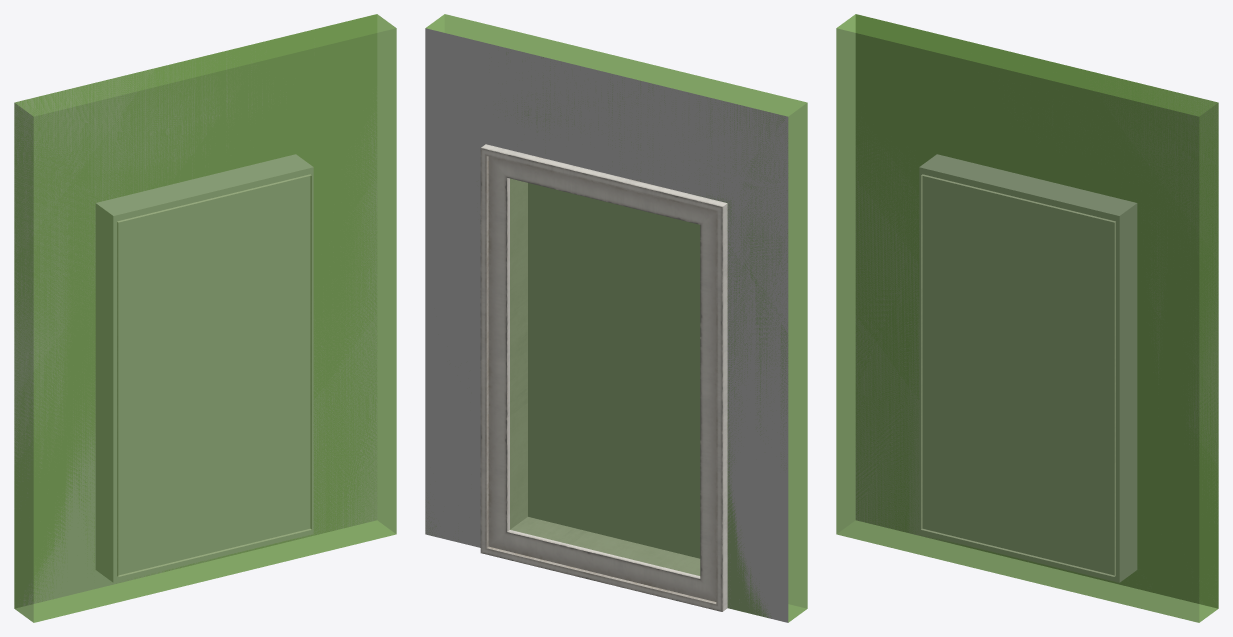
The model's file is F2_md_Wall_4x3_WL_01.fbx.
The picture shows the model from 3 angles, left to right: view 1: azimuth 30°, elevation 25°; view 2: azimuth 150°, elevation 25°; view 3: azimuth 330°, elevation 25°; orthographic projection.
Visible parts, largest first — view 1: F2_md_Wall_4x3_WL_01_col_01, F2_md_Wall_4x3_WL_01_LOD0; view 2: F2_md_Wall_4x3_WL_01_LOD0, F2_md_Wall_4x3_WL_01_col_01; view 3: F2_md_Wall_4x3_WL_01_col_01, F2_md_Wall_4x3_WL_01_LOD0.
Part boxes in pixels (bbox=[...]): F2_md_Wall_4x3_WL_01_col_01: bbox=[14, 14, 396, 622]; F2_md_Wall_4x3_WL_01_LOD0: bbox=[14, 14, 377, 608]; F2_md_Wall_4x3_WL_01_LOD0: bbox=[425, 28, 788, 622]; F2_md_Wall_4x3_WL_01_col_01: bbox=[425, 14, 807, 622]; F2_md_Wall_4x3_WL_01_col_01: bbox=[836, 14, 1218, 622]; F2_md_Wall_4x3_WL_01_LOD0: bbox=[855, 14, 1218, 608].
Size of what is drawn, in the model's own units: 300 by 400 by 35.39.
